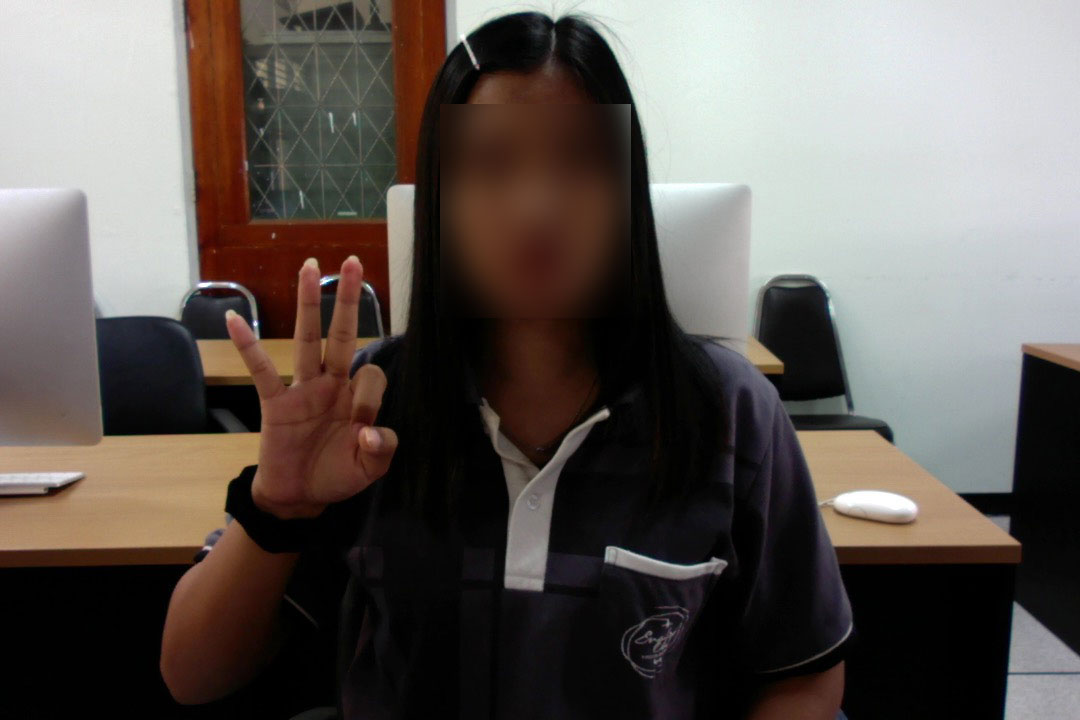for: (214, 244, 402, 522)
